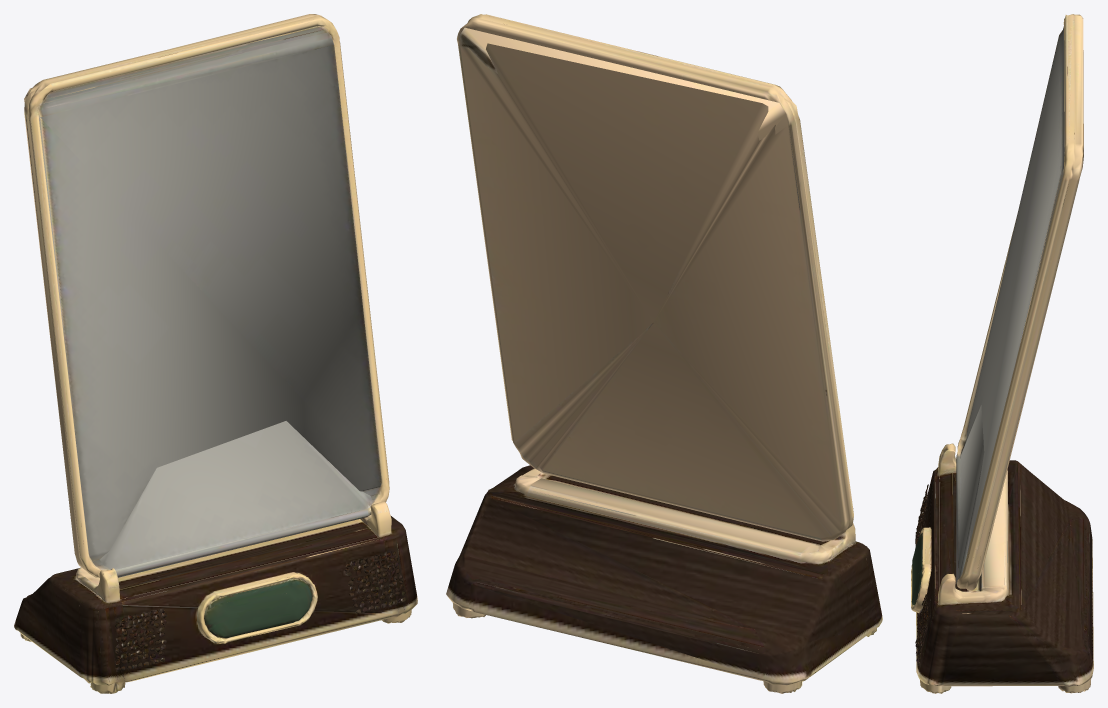
Rendered from ai-smart-glass-frame-web.glb.
3 renders of one model, left to right at view 1: azimuth 30°, elevation 25°; view 2: azimuth 150°, elevation 25°; view 3: azimuth 270°, elevation 25°, orthographic. The views are drawn at different scales.
Parts seen in each view (by area): view 1: Mesh_0.002; view 2: Mesh_0.002; view 3: Mesh_0.002.
Boxes of the visible parts, <box> form: Mesh_0.002: <box>14,14,417,693</box>; Mesh_0.002: <box>446,14,882,693</box>; Mesh_0.002: <box>911,14,1093,693</box>.
Size of the model in its own units: 0.1583 by 0.25 by 0.0767.
Materials: 1 (1 with a texture image).
